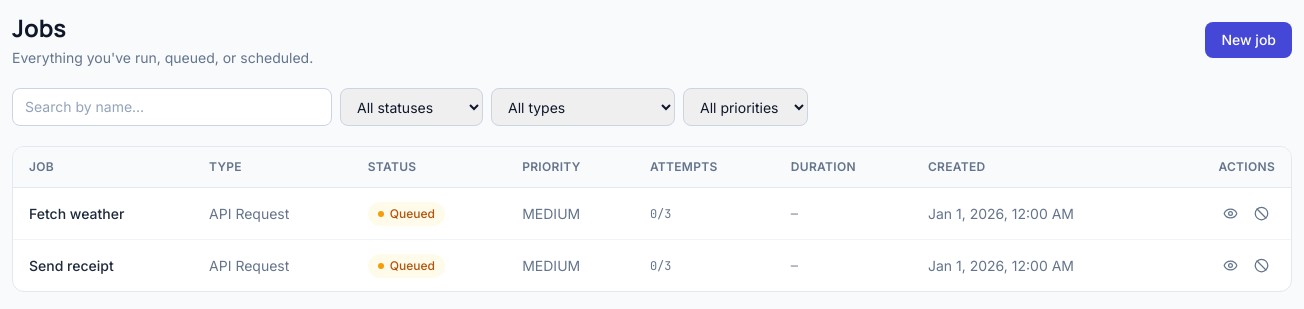
JobsPage › filters the visible rows by name via the client-side search box
Expected: the text "Fetch weather" is shown, [13, 188, 193, 240]
Step 1. Type "weather" into the search field with placeholder "Search by name…" → (172, 107), box [12, 88, 332, 126]
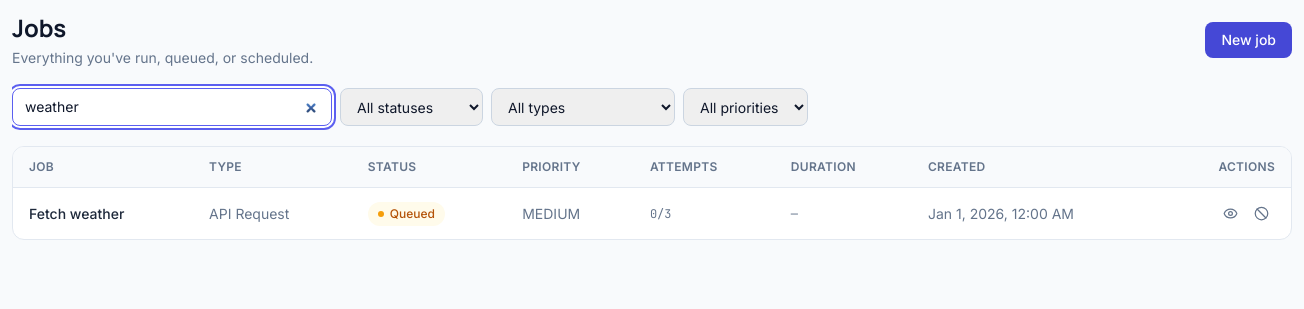
Expected: the text "Fetch weather" is shown, [13, 188, 193, 239]
Result: the text "Send receipt" is gone
